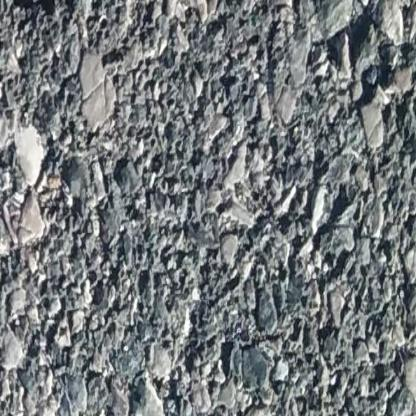Cracks: (0, 0, 143, 14)
